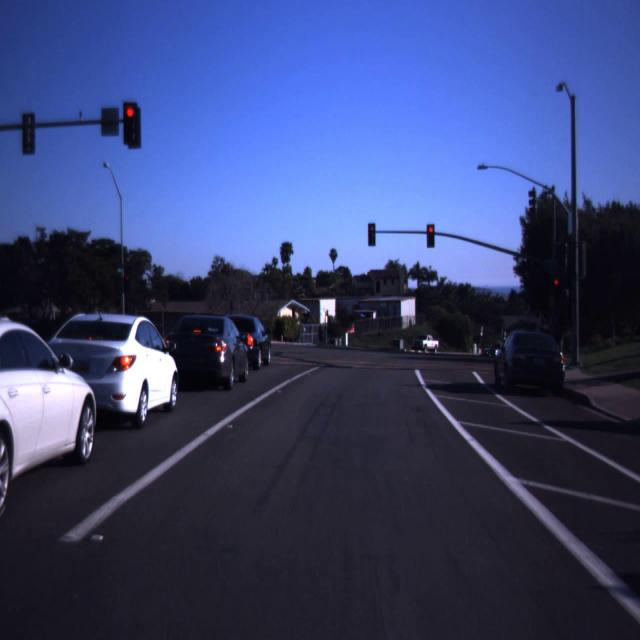kirmizi: (123, 102, 137, 144), (426, 224, 434, 248), (368, 224, 376, 246)
